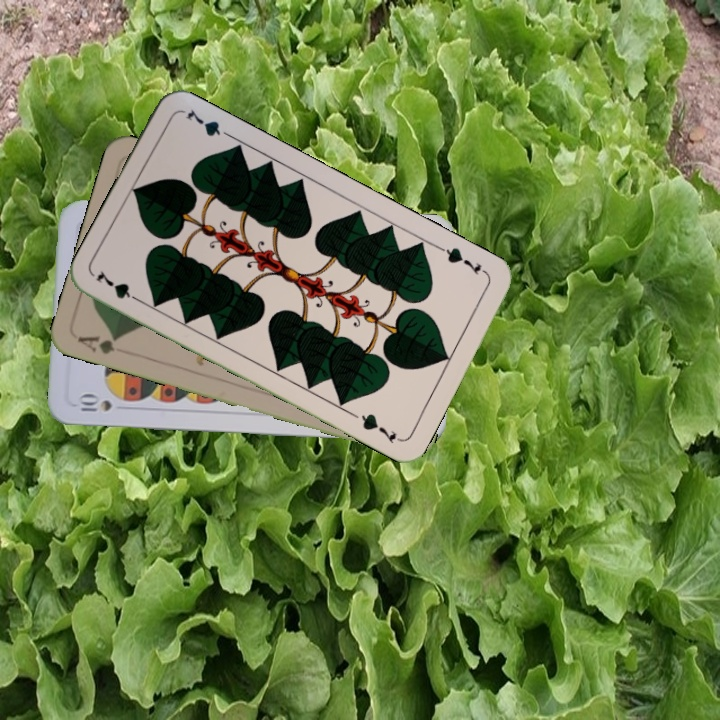G7: (92, 266, 146, 307), (436, 243, 491, 278)
GA: (73, 331, 122, 357)
S10: (77, 392, 115, 414)
